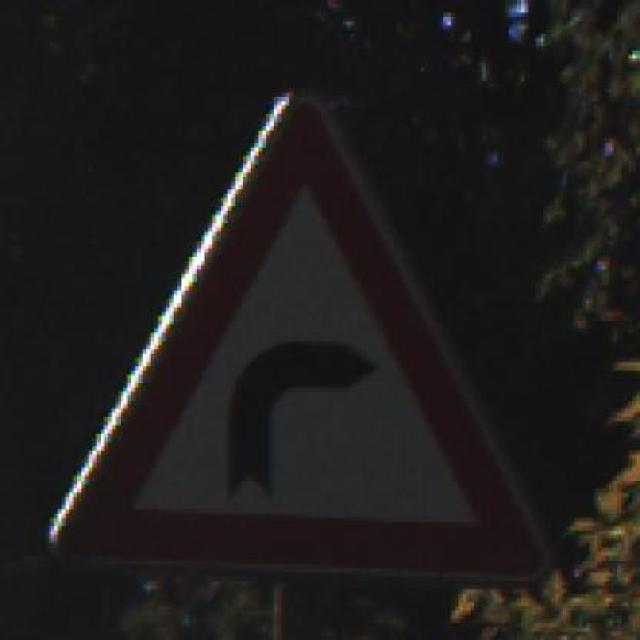Dangerous Rright Curve Ahead: (35, 97, 567, 581)
